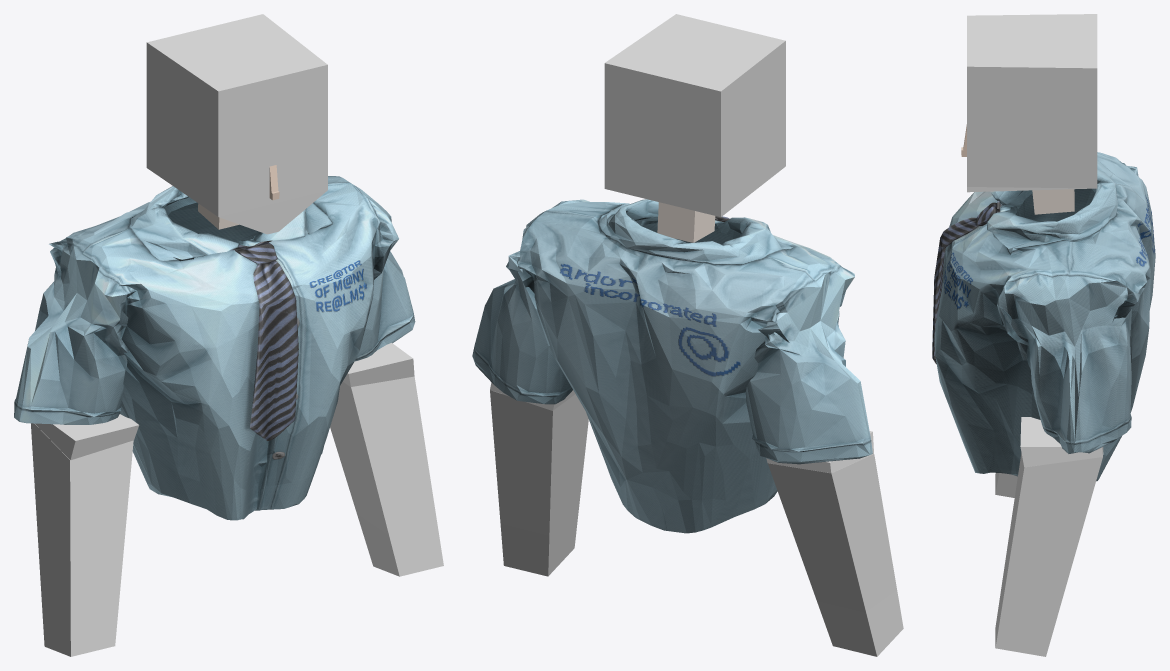
File: character_wear_133331049150205.fbx
3 views of the same model, side by side, from view 1: azimuth 30°, elevation 25°; view 2: azimuth 150°, elevation 25°; view 3: azimuth 270°, elevation 25° (orthographic). The views are drawn at different scales.
Visible parts, largest first — view 1: Top_133331049150205, cabeca, antebraco direito, antebraco esquerdo, braco superior direito, braco superior esquerdo; view 2: Top_133331049150205, cabeca, antebraco direito, antebraco esquerdo, pecoco, braco superior direito; view 3: Top_133331049150205, cabeca, antebraco esquerdo, braco superior esquerdo, pecoco, antebraco direito.
Boxes of the visible parts, x1,y1,x2,y2 form: Top_133331049150205: (14, 176, 415, 520); cabeca: (146, 14, 327, 234); antebraco direito: (31, 423, 133, 656); antebraco esquerdo: (330, 376, 443, 576); braco superior direito: (35, 414, 139, 460); braco superior esquerdo: (343, 343, 414, 386); Top_133331049150205: (472, 199, 872, 533); cabeca: (604, 14, 785, 216); antebraco direito: (768, 454, 903, 656); antebraco esquerdo: (490, 390, 588, 576); pecoco: (657, 202, 715, 242); braco superior direito: (766, 431, 873, 473); Top_133331049150205: (932, 152, 1155, 481); cabeca: (967, 14, 1097, 192); antebraco esquerdo: (995, 452, 1103, 656); braco superior esquerdo: (1020, 417, 1103, 467); pecoco: (1032, 189, 1074, 214); antebraco direito: (995, 473, 1017, 497).
Size of the model in its own units: 0.8471 by 1.13 by 0.4308.
Materials: 4 (3 with a texture image).
